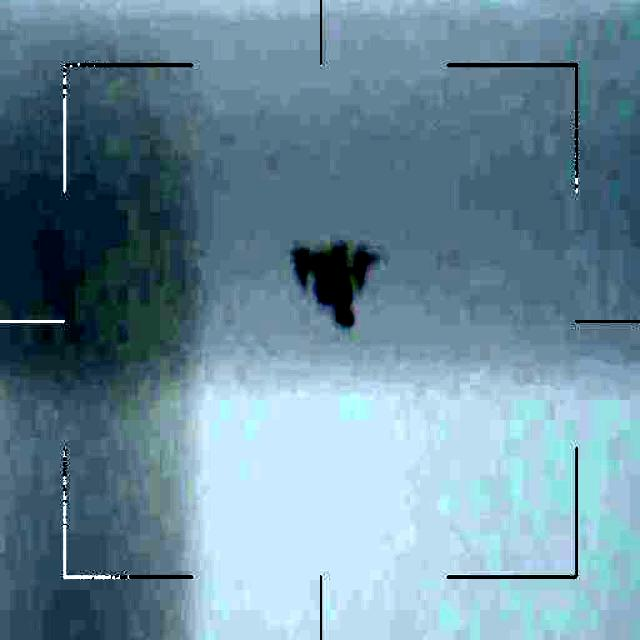bird: (294, 239, 381, 330)
